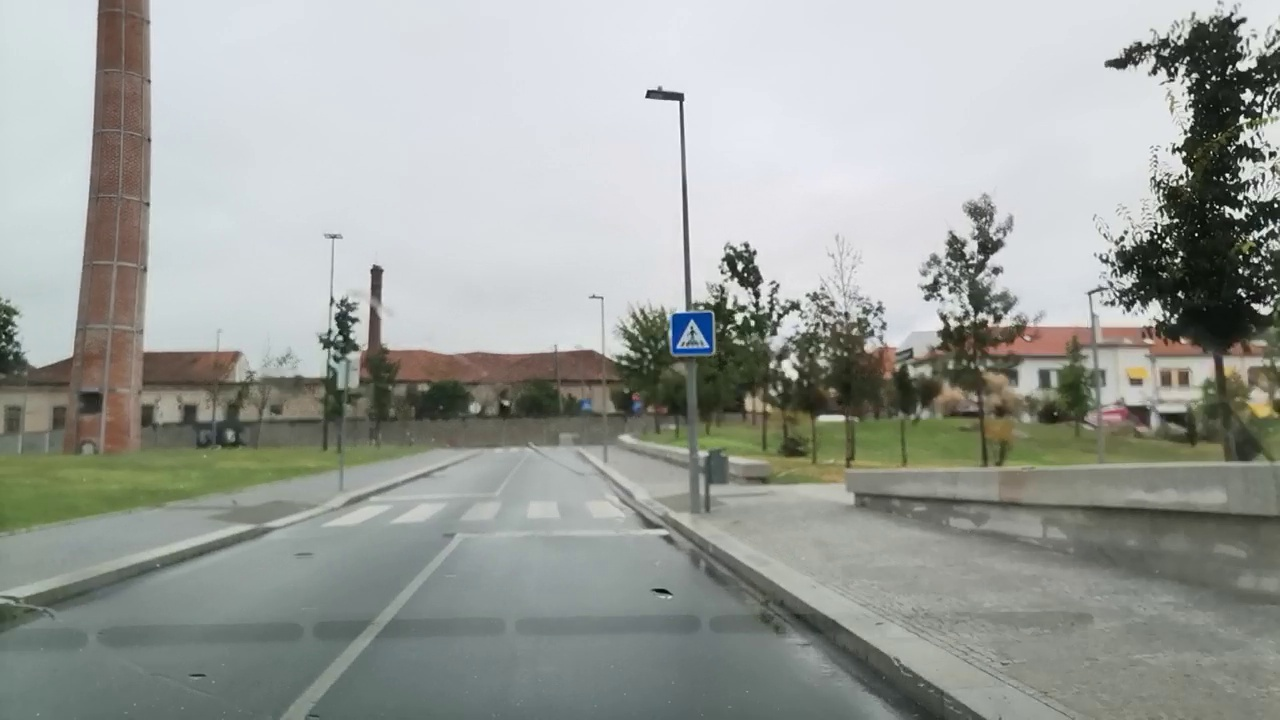Stairs: (302, 499, 639, 526)
